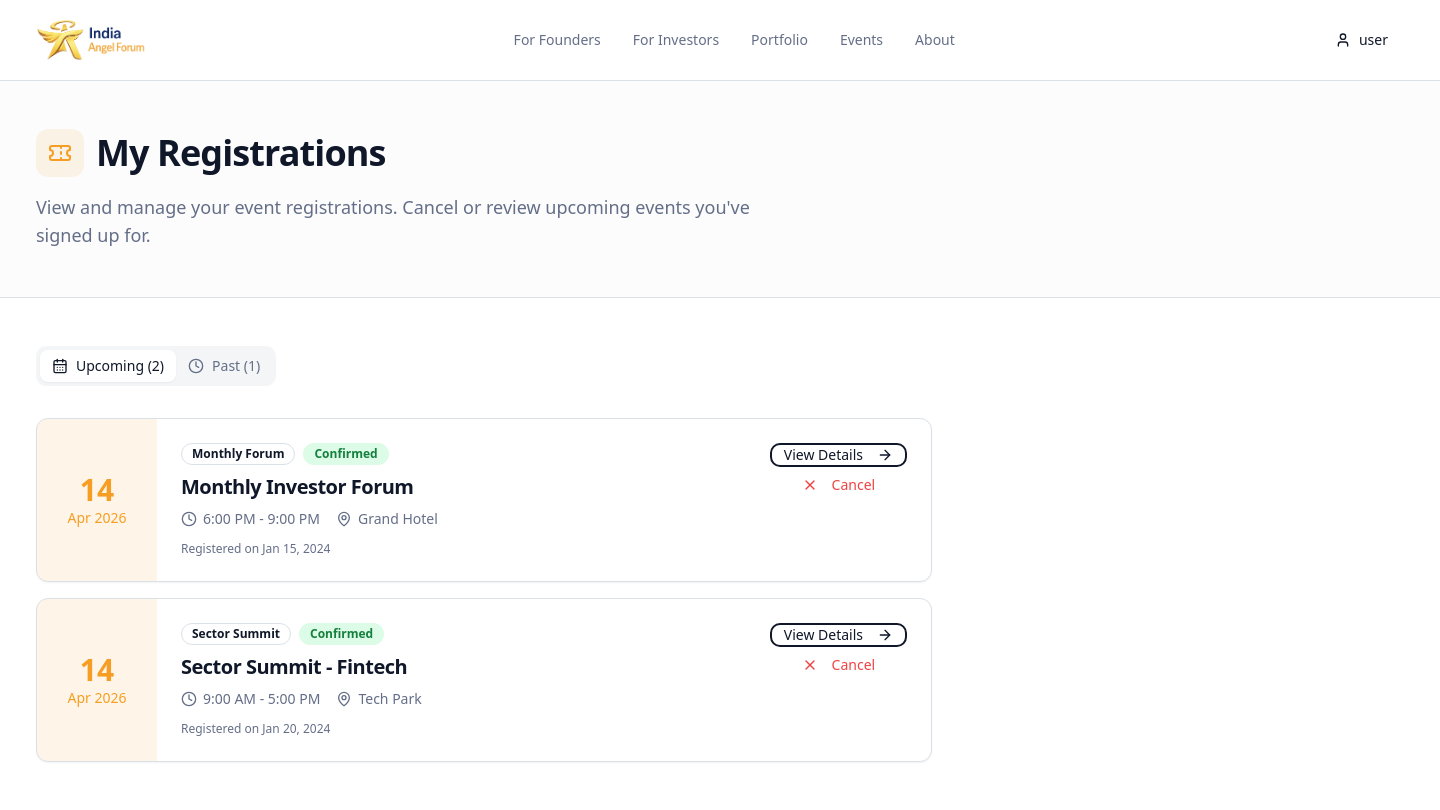
Scenario: MyRegistrations Page › Cancel Registration › should close dialog when clicking keep registration
The image size is (1440, 810).
Expected: the link "Monthly Investor Forum" is shown, 181,473 -> 414,500
Click the button "Cancel" in the row of "Monthly Investor Forum": point(838, 485) 770,475 -> 907,495
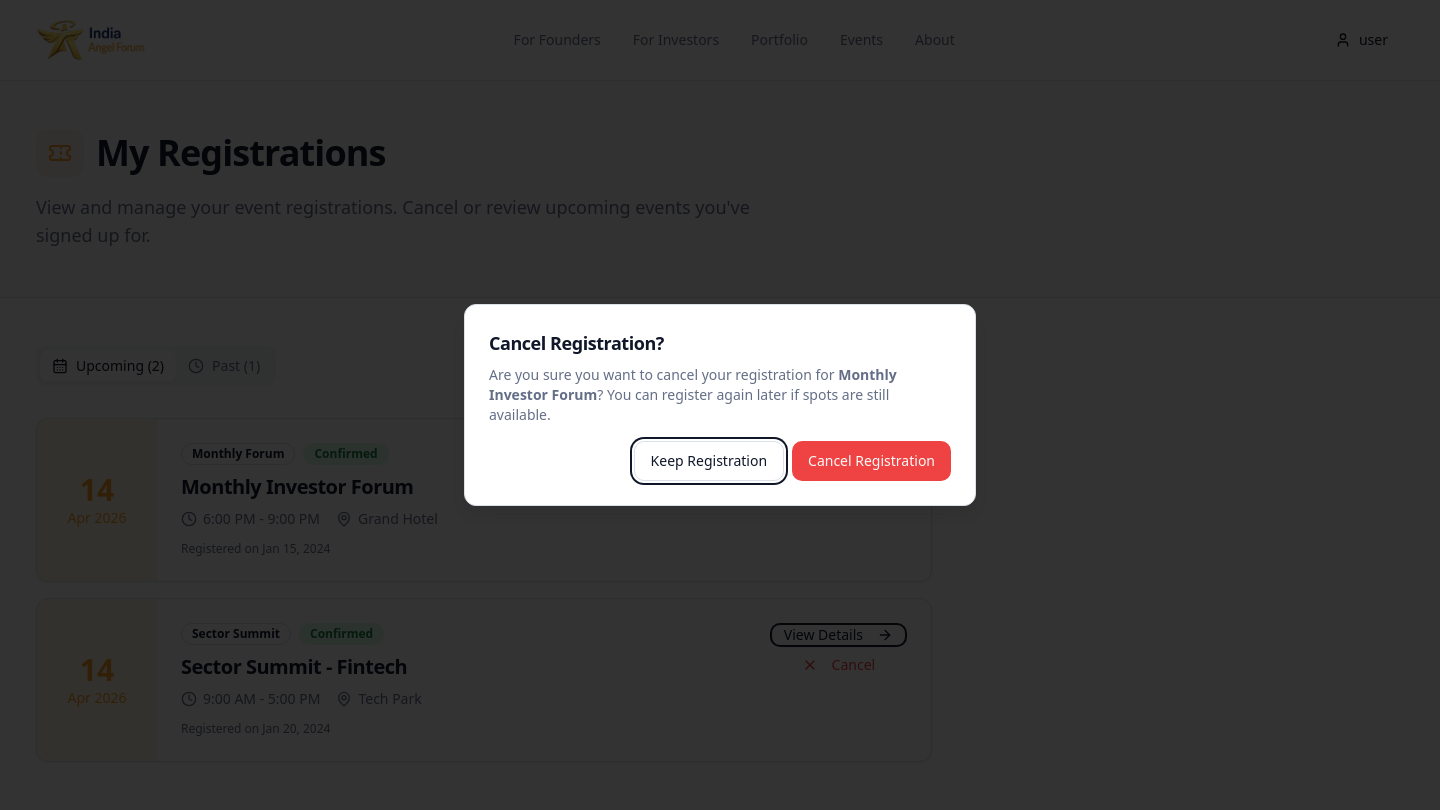
Result: the dialog is shown at 464,304 -> 976,506
Click the button "Keep Registration": point(709, 461) 634,441 -> 784,481
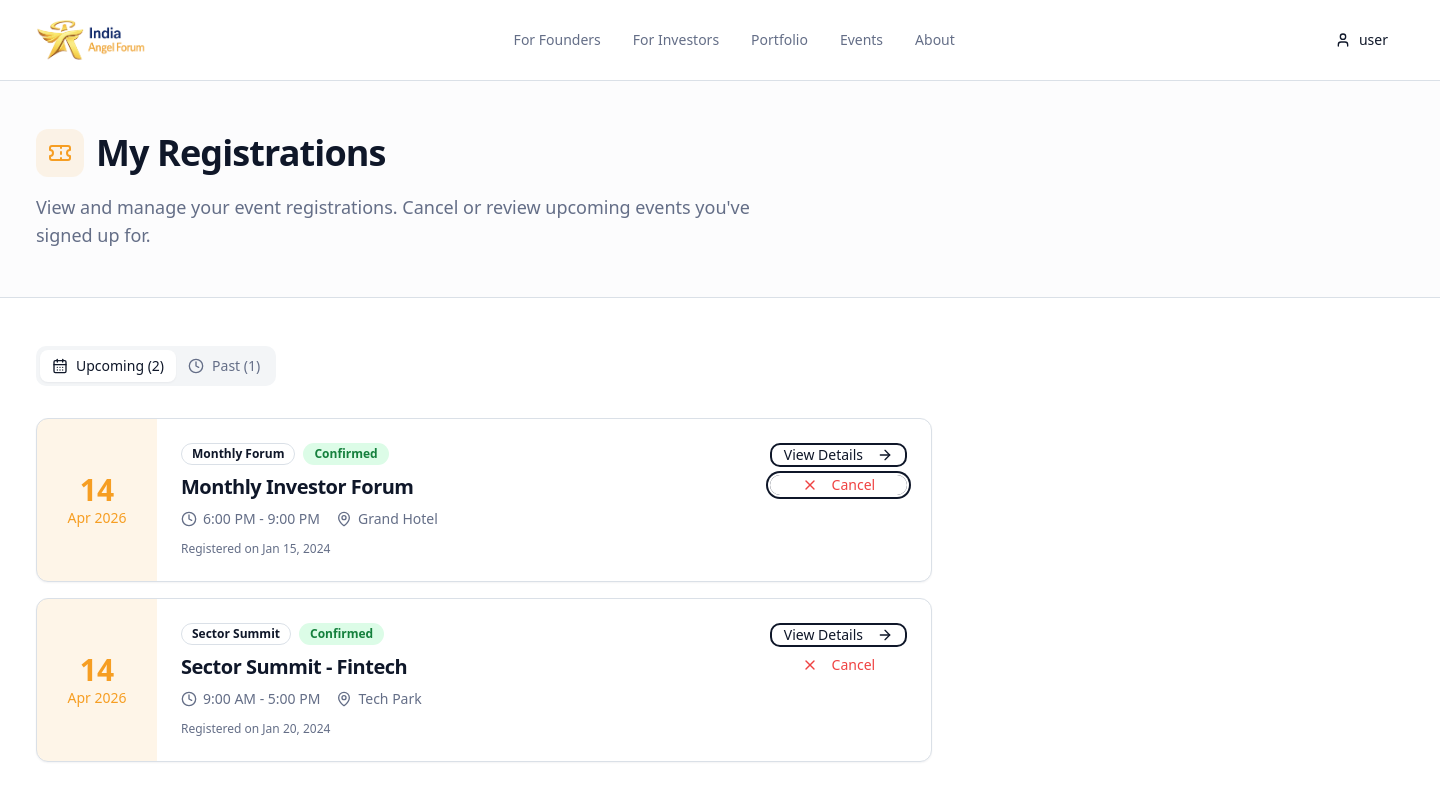
Result: the dialog is gone
